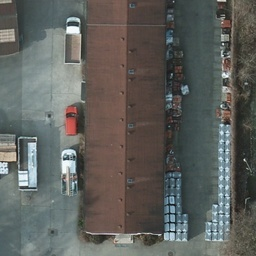car: (65, 103, 81, 135)
